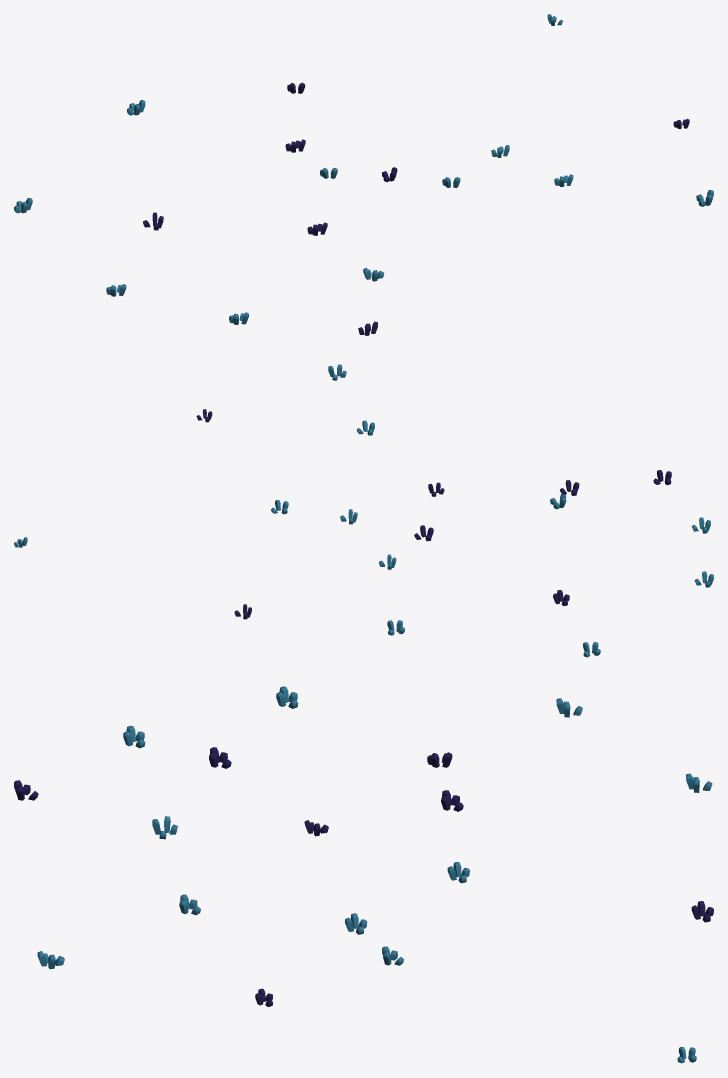
File: field_acce_b.fbx
3 renders of one model, top to bottom at view 1: azimuth 30°, elevation 25°; view 2: azimuth 150°, elevation 25°; view 3: azimuth 270°, elevation 25°, orthographic. The views are drawn at different scales.
Parts seen in each view (by area): view 1: grass.014; view 2: grass.014; view 3: grass.014.
Boxes of the visible parts, x1,y1,x2,y2 form: grass.014: (14,14,713,335); grass.014: (14,364,713,657); grass.014: (14,686,713,1063).
Size of the model in its own units: 72.86 by 5.58 by 56.76.
